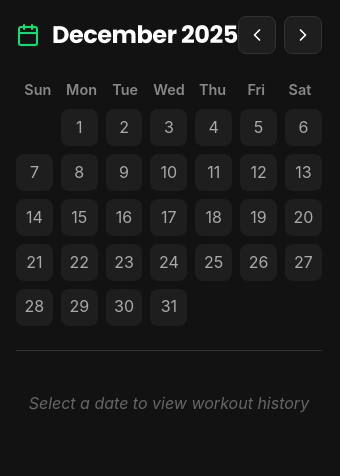
Test: WorkoutCalendar › goes to previous month
Click the 1st button at (257, 35), box [238,16,276,54]
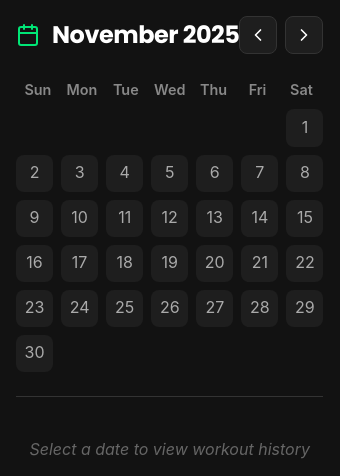
Result: the heading "November 2025" is shown at [52,16,239,54]
